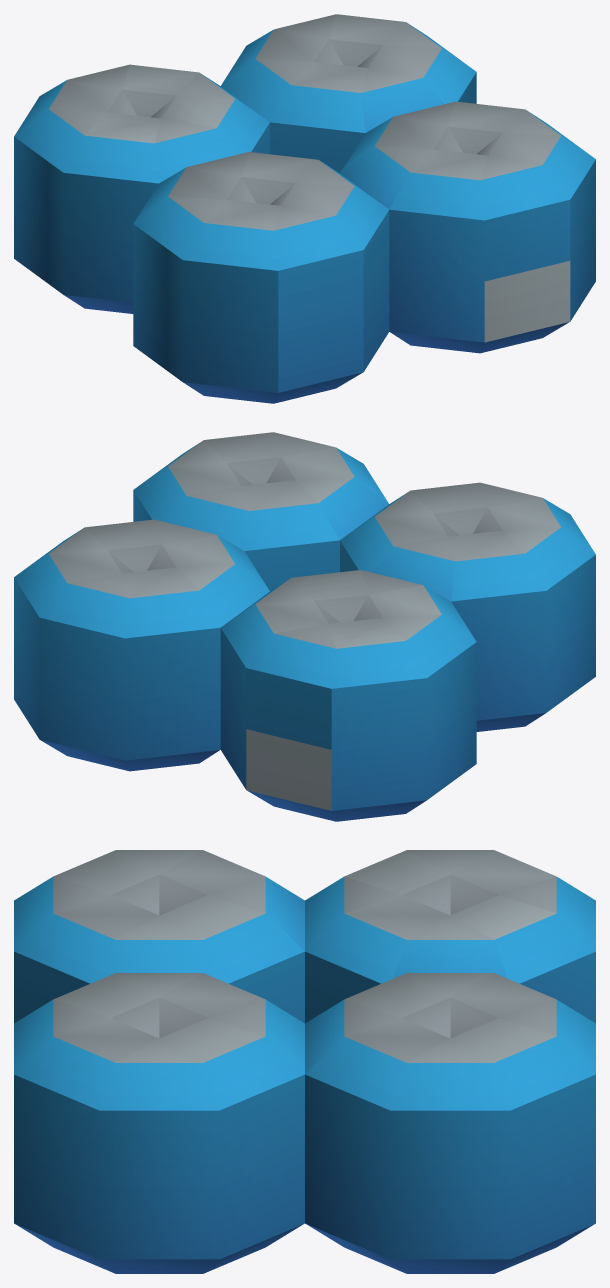
File: kk_containers_c.glb
3 views of the same model, one above another, from view 1: azimuth 30°, elevation 25°; view 2: azimuth 150°, elevation 25°; view 3: azimuth 270°, elevation 25° (orthographic). The views are drawn at different scales.
Visible parts, largest first — view 1: containers_C; view 2: containers_C; view 3: containers_C.
Boxes of the visible parts, left/top/right/bottom form: containers_C: left=14, top=14, right=595, bottom=403; containers_C: left=14, top=432, right=595, bottom=821; containers_C: left=14, top=850, right=595, bottom=1273.
Size of the model in its own units: 6 by 2.4 by 6.
1 material, 1 textured.
